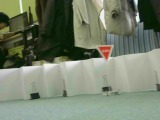stop: (94, 45, 116, 63)
